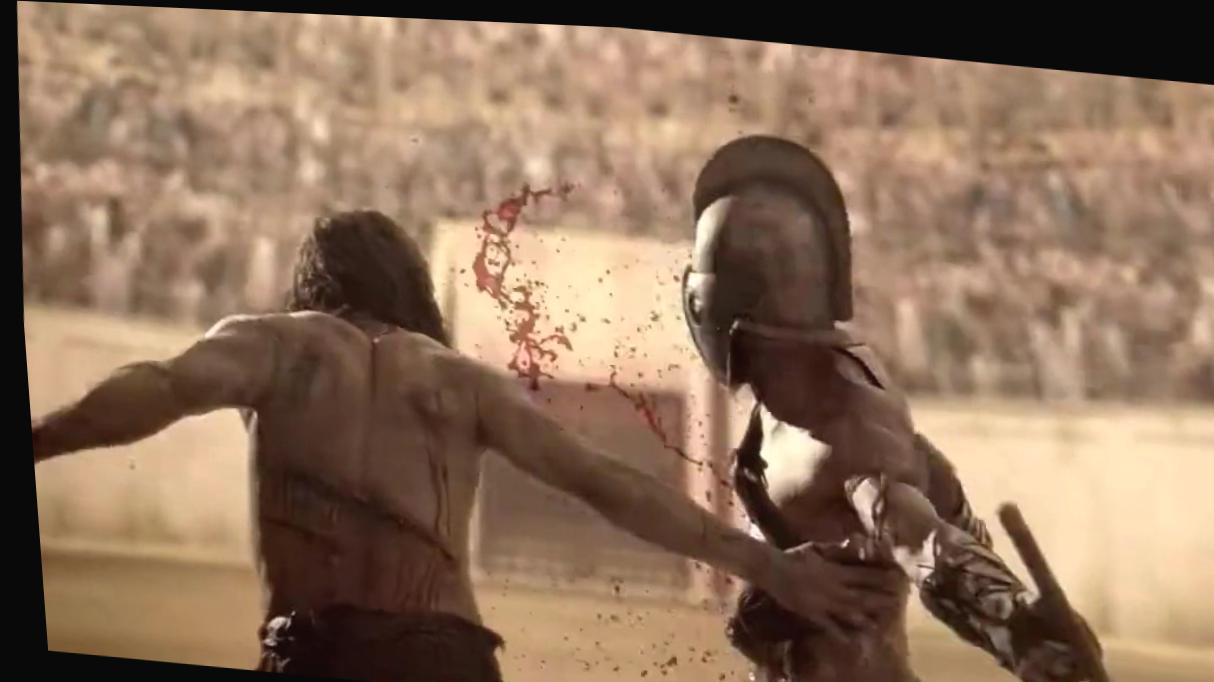Fire: (467, 180, 724, 511)
